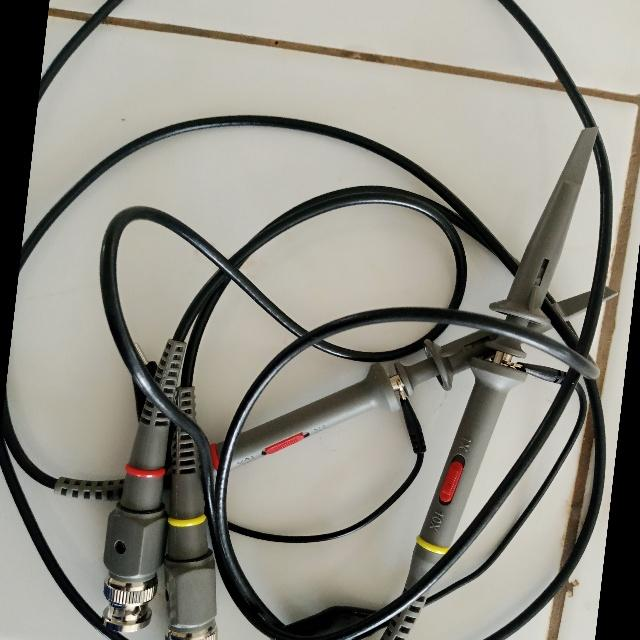CRO Probes: (8, 84, 628, 640)
